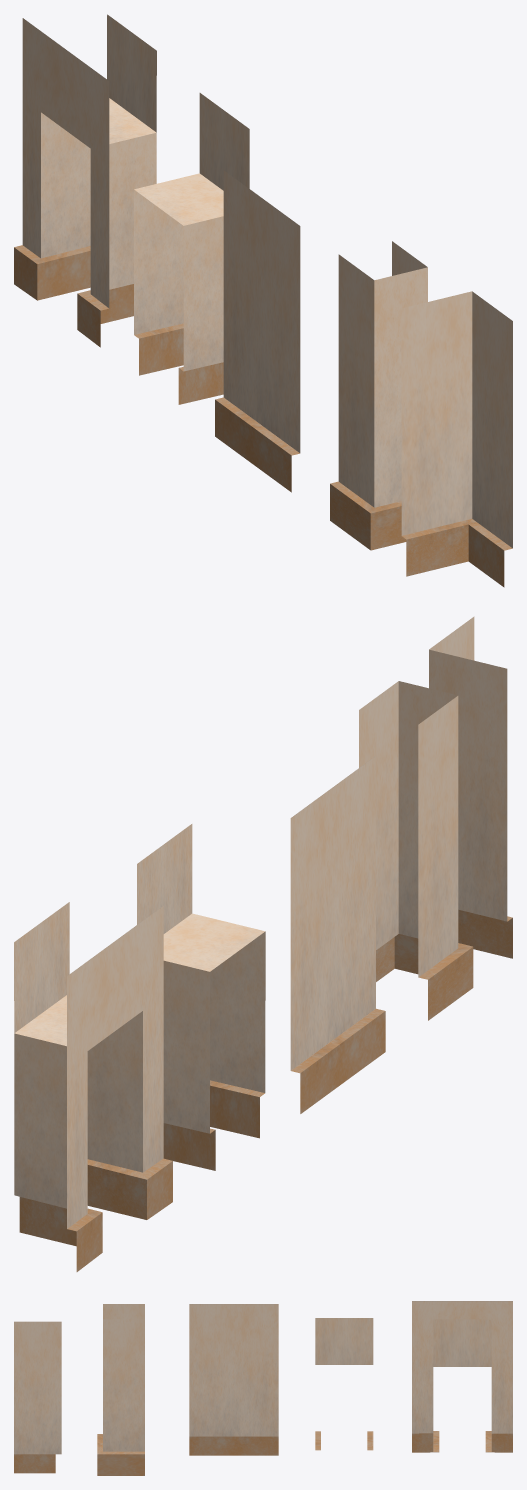
File: Paredes Lisas FBX.fbx
3 renders of one model, top to bottom at view 1: azimuth 30°, elevation 25°; view 2: azimuth 150°, elevation 25°; view 3: azimuth 270°, elevation 25°, orthographic. The views are drawn at different scales.
Parts seen in each view (by area): view 1: polySurface7, polySurface1, polySurface6, pCube2, polySurface3; view 2: polySurface7, polySurface6, polySurface3, pCube2, polySurface1; view 3: pCube2, polySurface7, polySurface3, polySurface1, polySurface6.
Boxes of the visible parts, bbox=[...] form: polySurface7: bbox=[14, 14, 156, 347]; polySurface1: bbox=[401, 291, 512, 587]; polySurface6: bbox=[134, 93, 249, 404]; pCube2: bbox=[215, 170, 300, 492]; polySurface3: bbox=[330, 241, 427, 550]; polySurface7: bbox=[14, 902, 172, 1271]; polySurface6: bbox=[137, 824, 265, 1170]; polySurface3: bbox=[359, 681, 473, 1020]; pCube2: bbox=[290, 756, 385, 1113]; polySurface1: bbox=[429, 616, 512, 958]; pCube2: bbox=[189, 1304, 278, 1455]; polySurface7: bbox=[412, 1301, 512, 1452]; polySurface3: bbox=[97, 1304, 144, 1475]; polySurface1: bbox=[14, 1321, 61, 1473]; polySurface6: bbox=[315, 1318, 373, 1450].
Size of the model in its own units: 1.13 by 3.9 by 11.21.
Materials: 1 (1 with a texture image).
